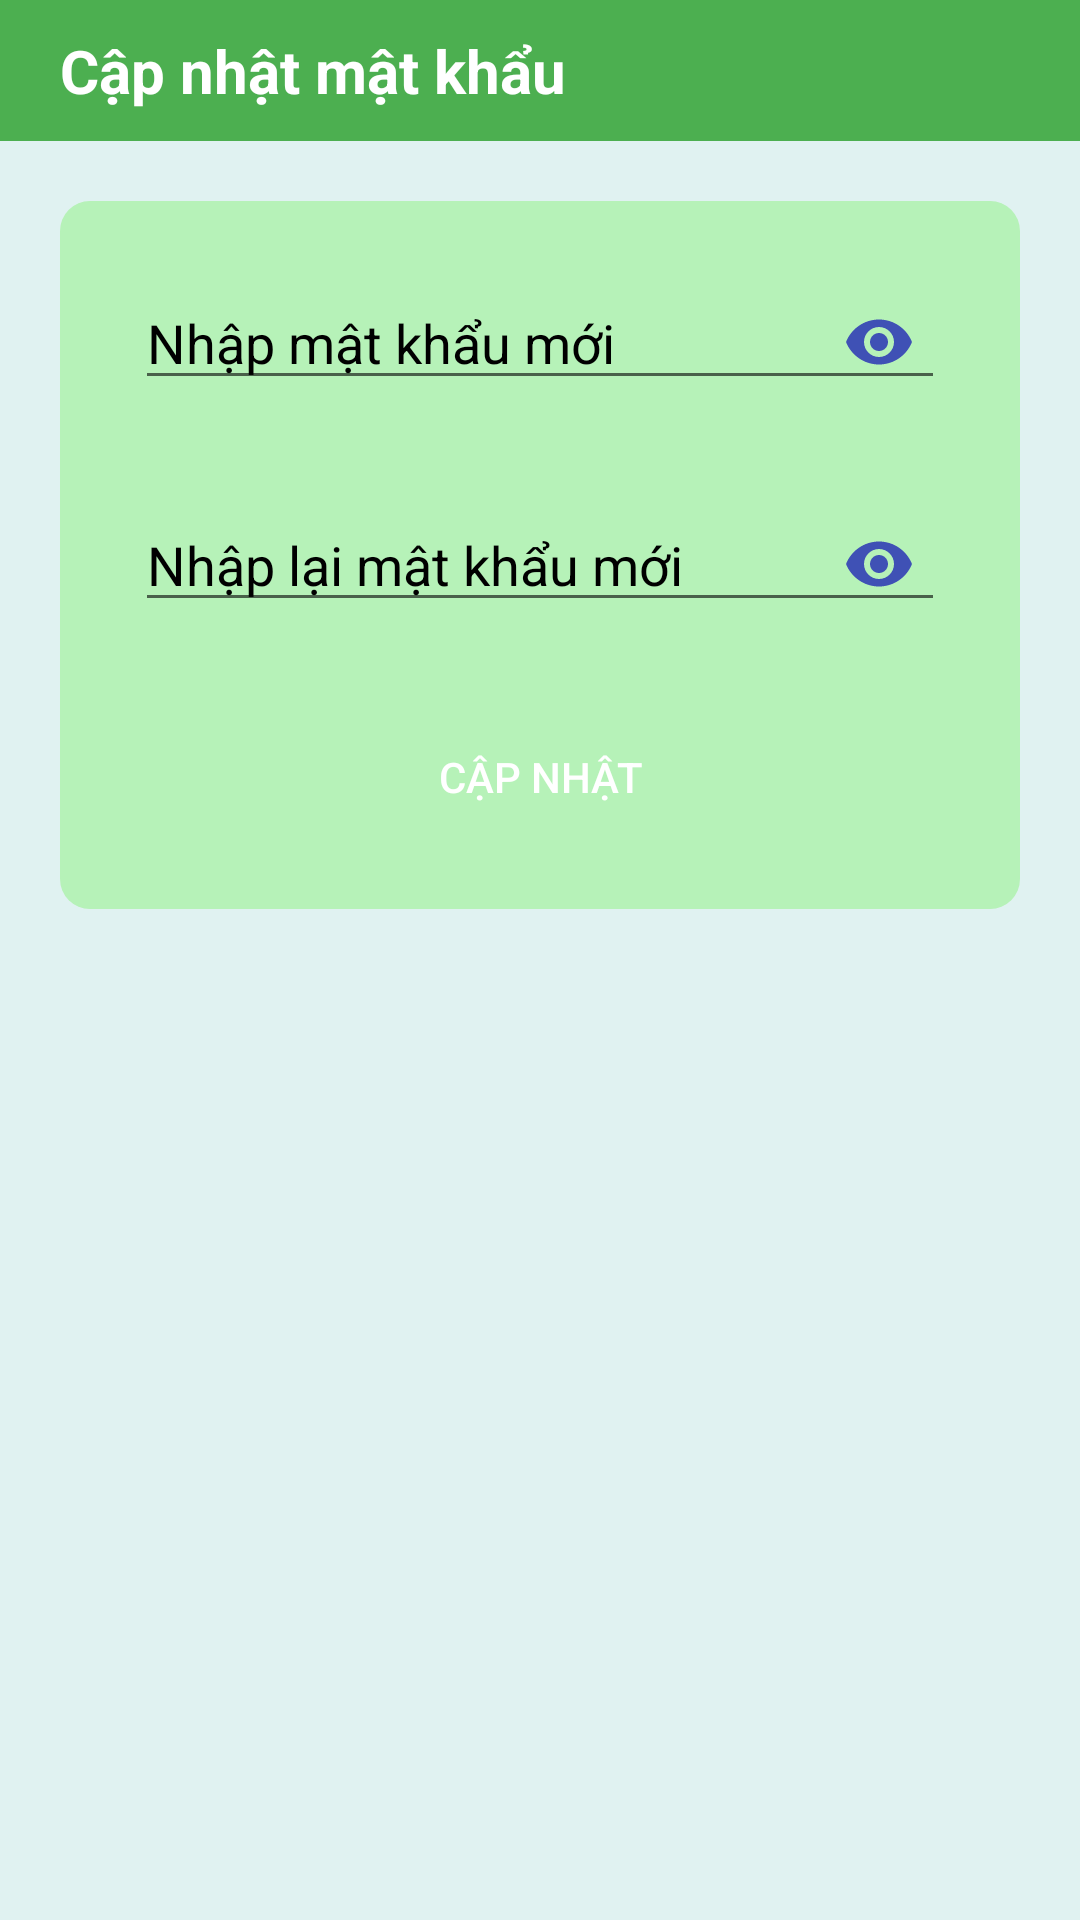

Named icons in this screenshot (1080 × 1920) and their bounding boxes, (x1, y1, x2, y2):
visible: (846, 319, 912, 365), (846, 541, 912, 587)
